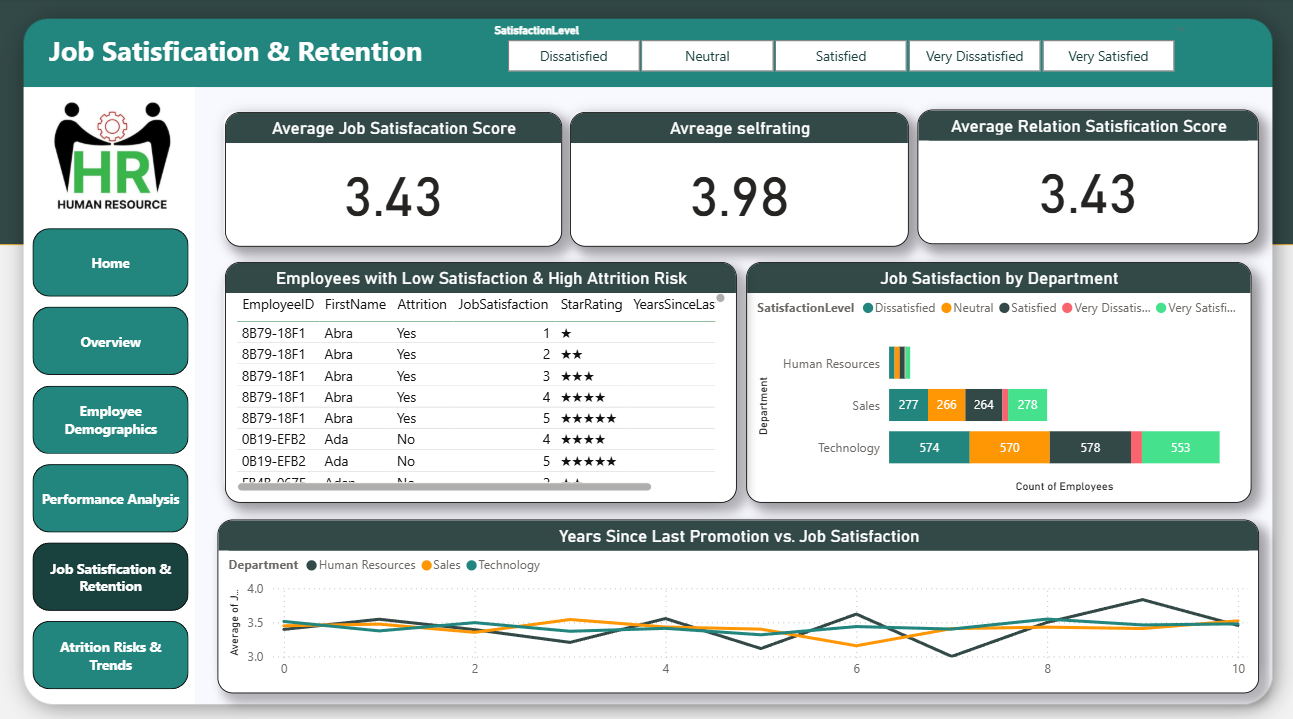

Layout of this report page (visuals, bound fields, positions):
{"tool":"powerbi","page":{"name":"Job Satisfication & Retention","canvas":[1280,720],"ordinal":4},"visuals":[{"type":"barChart","title":"Job Satisfaction by Department","fields":{"Y":["Count(PerformanceRating2.EmployeeID)"],"Series":["SatisfiedLevel.SatisfactionLevel"],"Category":["Department.Department"]},"box":[736.2,260,495,236.2],"z":0},{"type":"lineChart","title":"Years Since Last Promotion vs. Job Satisfaction","fields":{"Category":["Employee.YearsSinceLastPromotion"],"Y":["Avg(PerformanceRating2.JobSatisfaction)"],"Series":["Department.Department"]},"box":[218,512,1021,170],"z":1000},{"type":"tableEx","title":"Employees with Low Satisfaction & High Attrition Risk","fields":{"Values":["PerformanceRatings.EmployeeID","Employee.FirstName","Employee.Attrition","PerformanceRating2.JobSatisfaction","PerformanceRatings.StarRating","Sum(Employee.YearsSinceLastPromotion)"]},"box":[225,260,501.2,236.2],"z":2000},{"type":"card","title":"Average Job Satisfacation Score","fields":{"Values":["_Measures.Average Job Satisfaction Score"]},"box":[225.5,112.7,330,131.8],"z":3000},{"type":"card","title":"Avreage selfrating","fields":{"Values":["_Measures.avg selfrating"]},"box":[563.6,112.7,331.8,131.8],"z":4000},{"type":"card","title":"Average Relation Satisfication Score","fields":{"Values":["_Measures.Average Relationship Satisfaction Score"]},"box":[903.6,110,334.5,131.8],"z":5000},{"type":"textbox","box":[47.9,29.4,407.4,50.3],"z":6000},{"type":"pageNavigator","box":[36.7,226.7,153.3,453.3],"z":7000},{"type":"slicer","fields":{"Values":["SatisfiedLevel.SatisfactionLevel"]},"box":[476.1,20.9,703.1,58.9],"z":8000},{"type":"image","box":[41.7,83.4,142.3,146],"z":9000}]}

Visuals, with their boxes in screenshot pixels (x1, y1, x2, y2), scaled from the page's 1280x720 canvas onto the 1293x719 screenshot:
"Job Satisfaction by Department" barChart: [left=744, top=260, right=1244, bottom=496]
"Years Since Last Promotion vs. Job Satisfaction" lineChart: [left=220, top=511, right=1252, bottom=681]
"Employees with Low Satisfaction & High Attrition Risk" tableEx: [left=227, top=260, right=734, bottom=496]
"Average Job Satisfacation Score" card: [left=228, top=113, right=561, bottom=244]
"Avreage selfrating" card: [left=569, top=113, right=904, bottom=244]
"Average Relation Satisfication Score" card: [left=913, top=110, right=1251, bottom=241]
textbox: [left=48, top=29, right=460, bottom=80]
pageNavigator: [left=37, top=226, right=192, bottom=679]
slicer - SatisfiedLevel.SatisfactionLevel: [left=481, top=21, right=1191, bottom=80]
image: [left=42, top=83, right=186, bottom=229]
